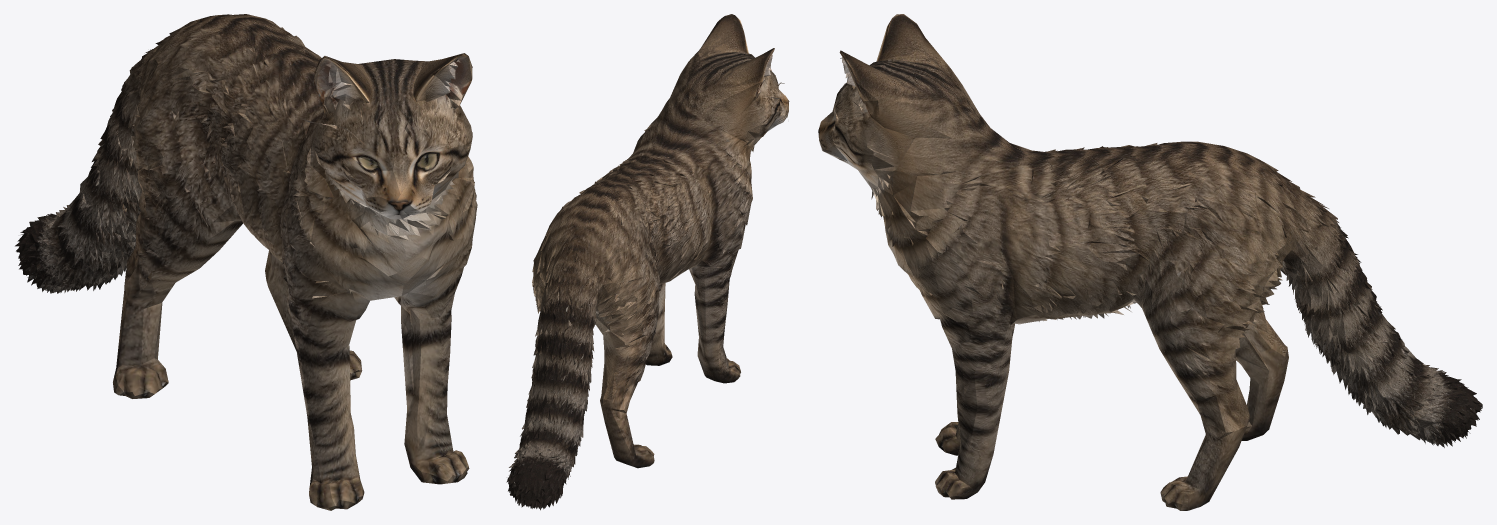
Rendered from cat.glb.
3 renders of one model, left to right at view 1: azimuth 30°, elevation 25°; view 2: azimuth 150°, elevation 25°; view 3: azimuth 270°, elevation 25°, orthographic. The views are drawn at different scales.
Visible parts, largest first — view 1: output_unwrapped; view 2: output_unwrapped; view 3: output_unwrapped.
Boxes of the visible parts, box(x1,y1,x2,y2) form: output_unwrapped: box(15, 14, 477, 510); output_unwrapped: box(506, 14, 789, 510); output_unwrapped: box(818, 14, 1482, 510).
Bounding box in the file's own units: 0.1418 × 0.3 × 0.4324.
Materials: 1 (1 with a texture image).
